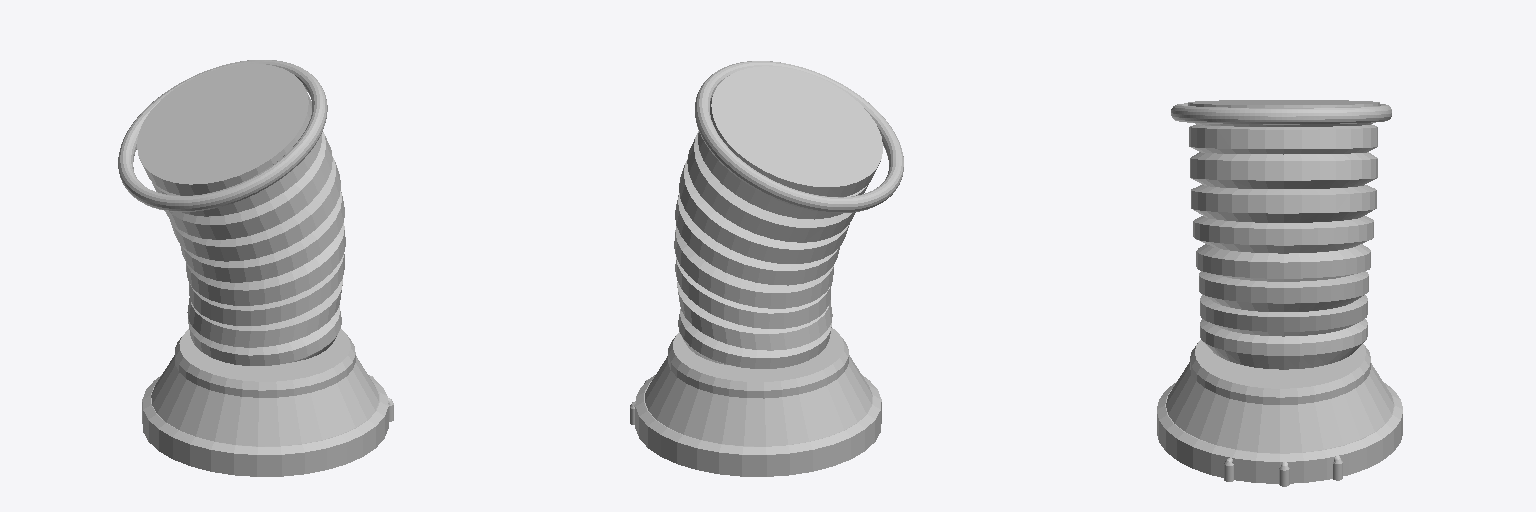
Rendered from pata_trasera_izquierda.obj.
The picture shows the model from 3 angles: view 1: azimuth 30°, elevation 25°; view 2: azimuth 150°, elevation 25°; view 3: azimuth 270°, elevation 25°; orthographic projection.
Visible parts, largest first — view 1: C_rculo_007_C_rculo_008, C_rculo_015_C_rculo_016, C_rculo_014_C_rculo_015, C_rculo_016_C_rculo_017, C_rculo_004; view 2: C_rculo_007_C_rculo_008, C_rculo_015_C_rculo_016, C_rculo_014_C_rculo_015, C_rculo_004, C_rculo_016_C_rculo_017; view 3: C_rculo_007_C_rculo_008, C_rculo_015_C_rculo_016, C_rculo_014_C_rculo_015, C_rculo_016_C_rculo_017, C_rculo_004, Cilindro_001_Cilindro_006.
Boxes of the visible parts, <box> form: C_rculo_007_C_rculo_008: <box>137,63,345,365</box>; C_rculo_015_C_rculo_016: <box>151,355,378,446</box>; C_rculo_014_C_rculo_015: <box>142,375,388,476</box>; C_rculo_016_C_rculo_017: <box>175,329,355,397</box>; C_rculo_004: <box>118,60,327,211</box>; C_rculo_007_C_rculo_008: <box>674,66,882,368</box>; C_rculo_015_C_rculo_016: <box>645,355,872,446</box>; C_rculo_014_C_rculo_015: <box>635,375,881,476</box>; C_rculo_004: <box>695,61,903,212</box>; C_rculo_016_C_rculo_017: <box>668,328,848,398</box>; C_rculo_007_C_rculo_008: <box>1188,100,1379,369</box>; C_rculo_015_C_rculo_016: <box>1166,362,1393,452</box>; C_rculo_014_C_rculo_015: <box>1157,382,1402,483</box>; C_rculo_016_C_rculo_017: <box>1190,340,1370,404</box>; C_rculo_004: <box>1171,103,1391,124</box>; Cilindro_001_Cilindro_006: <box>1224,456,1342,486</box>.
Size of the model in its own units: 1.17 by 1.58 by 1.03.